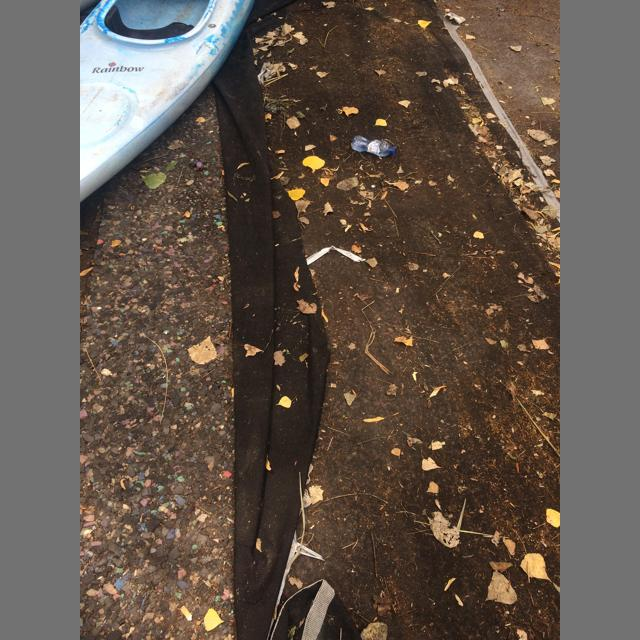litter: (306, 246, 366, 265), (351, 136, 396, 157), (180, 605, 192, 621), (392, 147, 396, 154)
